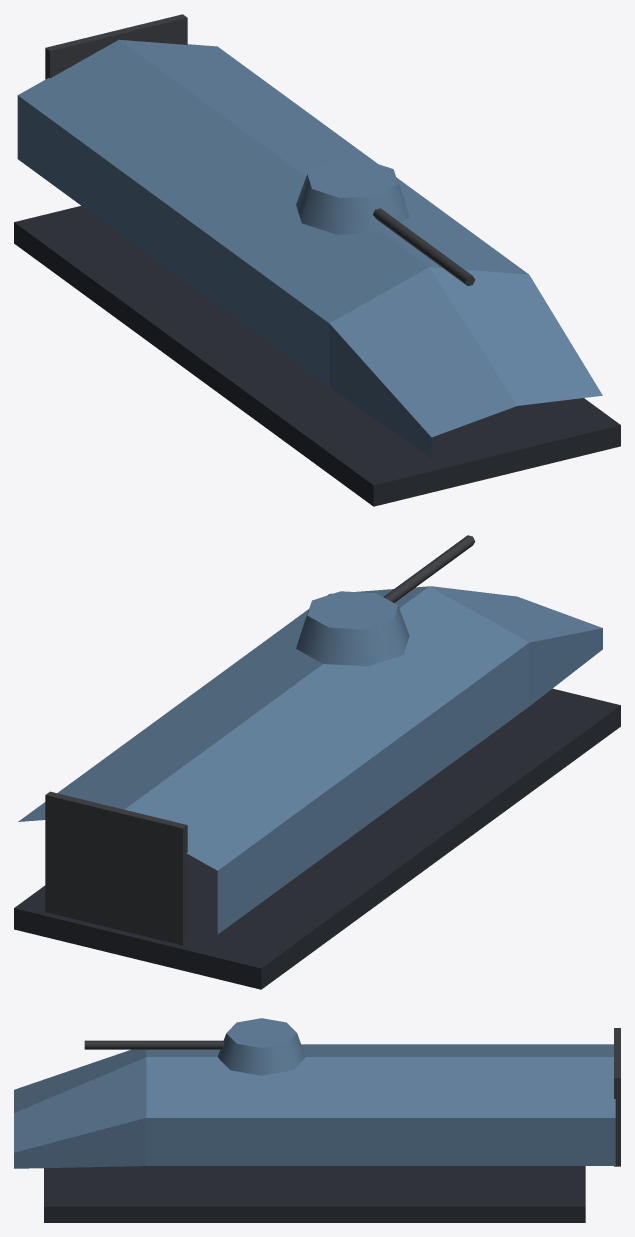
The model's file is veh_ground_apc_a10.glb.
3 renders of one model, top to bottom at view 1: azimuth 30°, elevation 25°; view 2: azimuth 150°, elevation 25°; view 3: azimuth 270°, elevation 25°, orthographic. The views are drawn at different scales.
Visible parts, largest first — view 1: body, gun, ramp; view 2: body, ramp, gun; view 3: body, gun, ramp.
Boxes of the visible parts, bbox=[...] form: body: bbox=[14, 39, 620, 506]; gun: bbox=[296, 160, 475, 285]; ramp: bbox=[45, 14, 187, 79]; body: bbox=[14, 586, 620, 989]; ramp: bbox=[45, 791, 187, 945]; gun: bbox=[296, 535, 475, 666]; body: bbox=[14, 1044, 615, 1222]; gun: bbox=[84, 1018, 305, 1075]; ramp: bbox=[614, 1028, 620, 1166].
Size of what is drawn, in the model's own units: 2.43 by 1.84 by 6.86.
